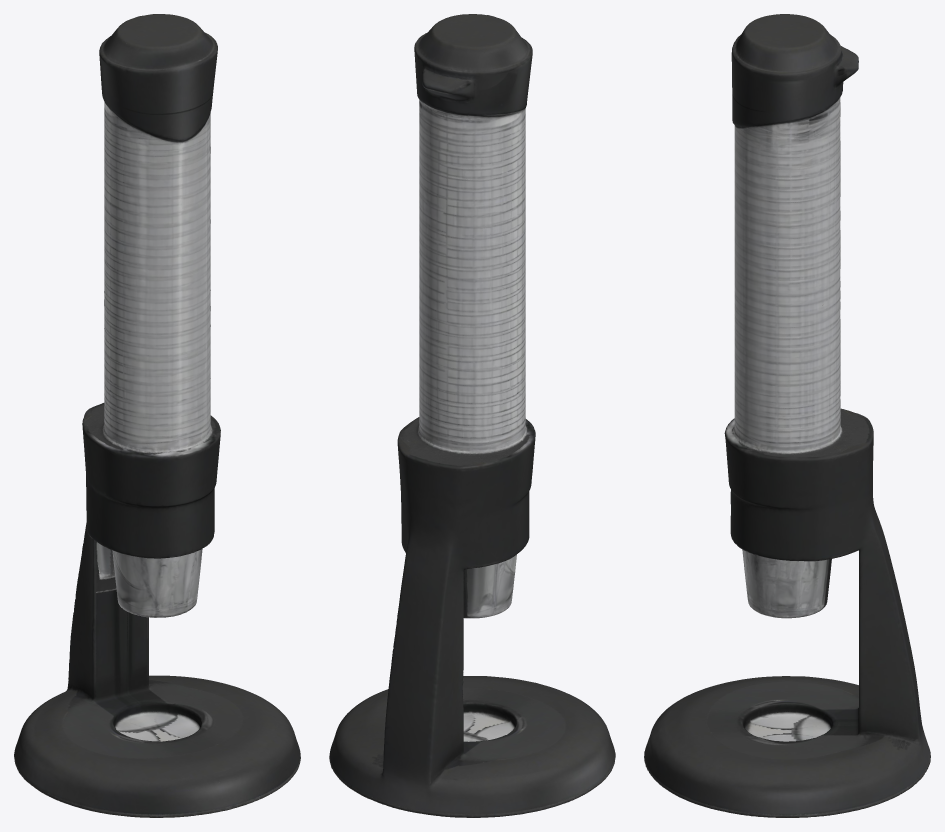
File: Cup_Dispenser_Tower.fbx
3 renders of one model, left to right at view 1: azimuth 30°, elevation 25°; view 2: azimuth 150°, elevation 25°; view 3: azimuth 270°, elevation 25°, orthographic.
Parts seen in each view (by area): view 1: Mesh1.0; view 2: Mesh1.0; view 3: Mesh1.0.
Part boxes in pixels (x1=…): Mesh1.0: x1=14, y1=14, x2=300, y2=817; Mesh1.0: x1=329, y1=14, x2=615, y2=817; Mesh1.0: x1=644, y1=14, x2=930, y2=817.
Size of the model in its own units: 68.22 by 191 by 68.33.
Materials: 1 (1 with a texture image).
